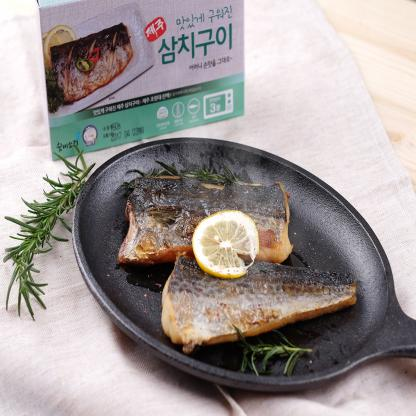Peixe: (154, 236, 363, 364), (118, 164, 308, 276)
